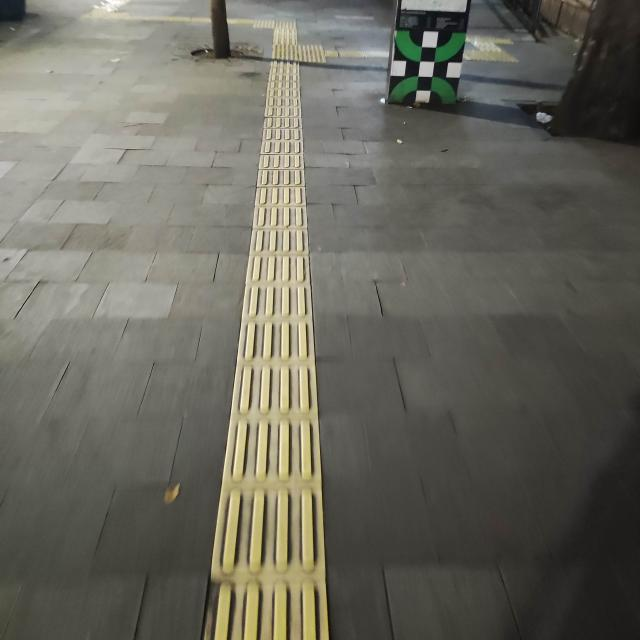lurus: (230, 69, 320, 640)
